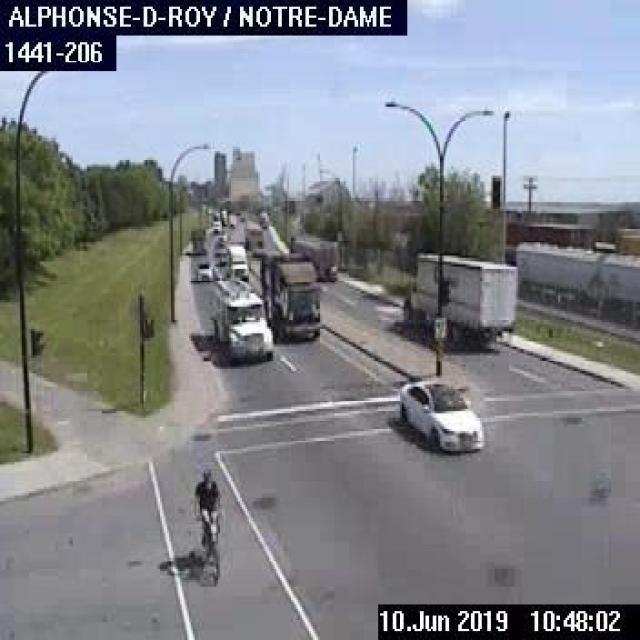cyclist: (185, 469, 222, 584)
vehicle: (400, 251, 516, 338), (396, 373, 482, 449), (256, 248, 321, 342), (208, 270, 272, 362), (285, 230, 339, 284), (222, 240, 250, 280), (242, 220, 263, 257), (192, 258, 213, 282), (187, 227, 204, 253), (209, 217, 223, 233)
